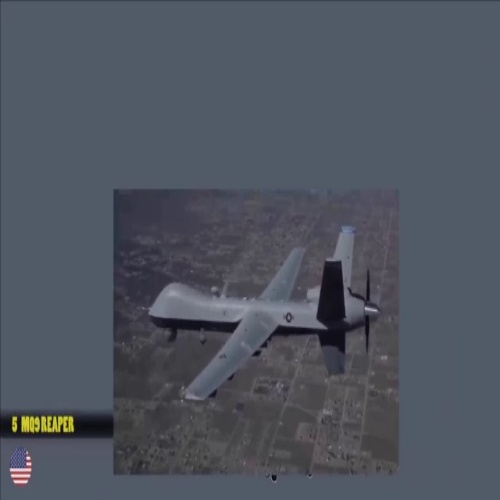uav: (141, 223, 387, 404)
